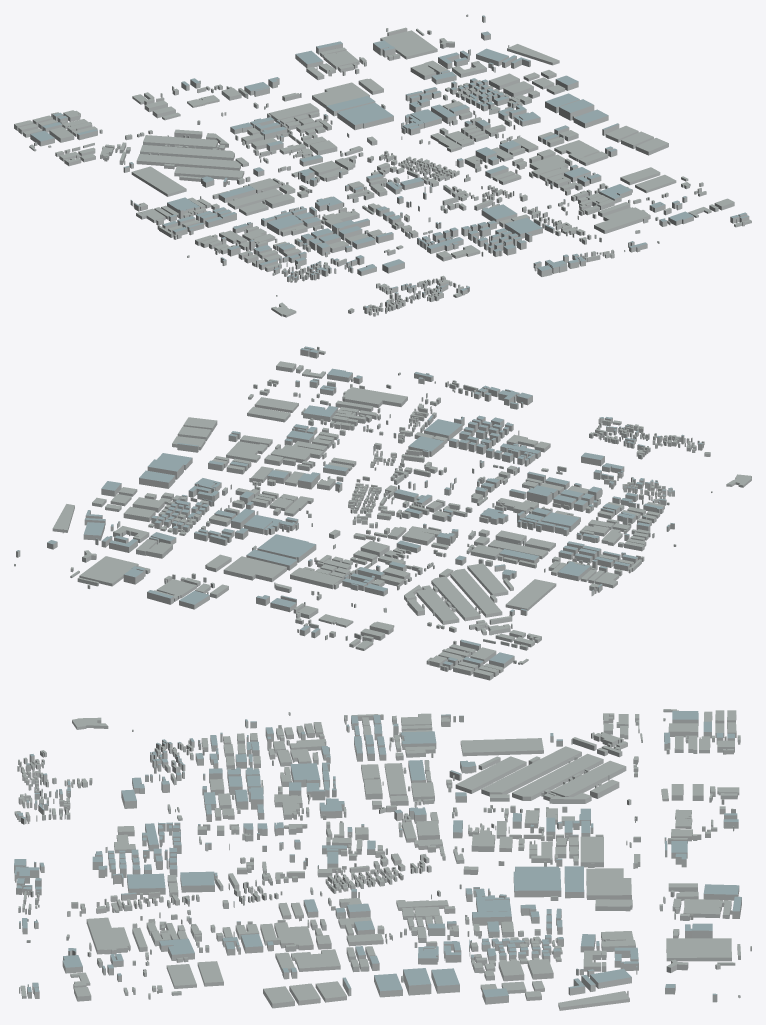
The model's file is far.glb.
3 views of the same model, one above another, from view 1: azimuth 30°, elevation 25°; view 2: azimuth 150°, elevation 25°; view 3: azimuth 270°, elevation 25° (orthographic). The views are drawn at different scales.
Bounding box in the file's own units: 2025 × 36.95 × 2106.
